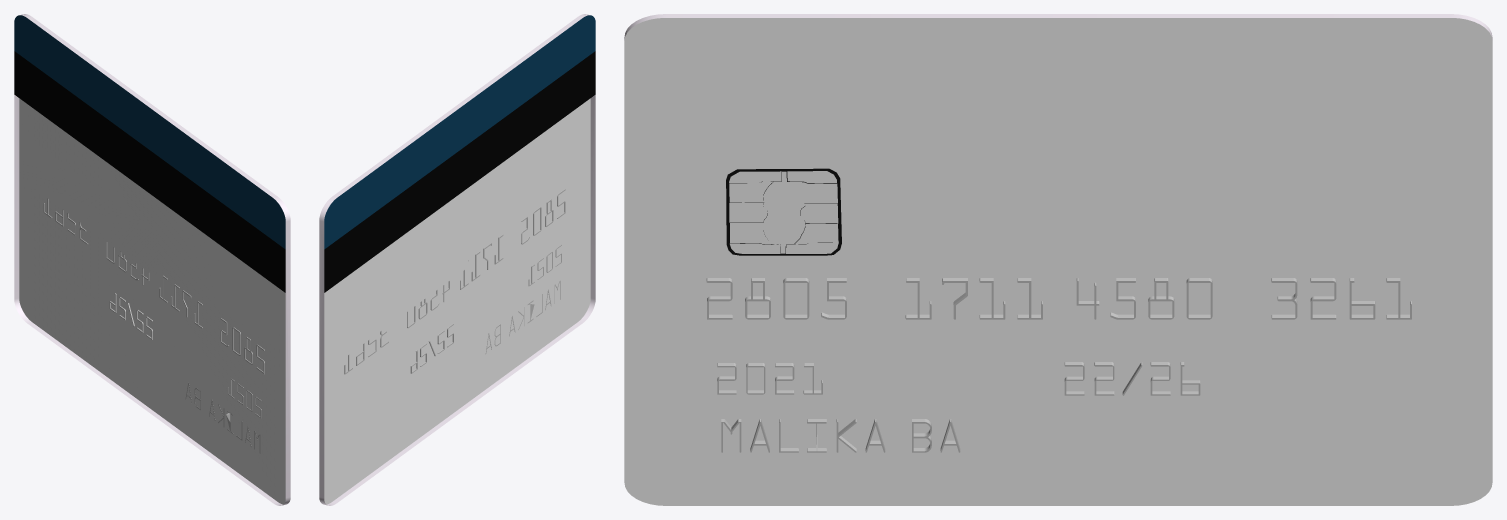
Rendered from card.glb.
The picture shows the model from 3 angles, left to right: view 1: azimuth 30°, elevation 25°; view 2: azimuth 150°, elevation 25°; view 3: azimuth 270°, elevation 25°; orthographic projection. The views are drawn at different scales.
Visible parts, largest first — view 1: card_4, Object_14, numbers/txt_3; view 2: card_4, Object_14, numbers/txt_3; view 3: card_4, numbers/txt_3, id_2.
Part boxes in pixels (<box>): card_4: <box>14,14,290,505</box>; Object_14: <box>21,133,158,278</box>; numbers/txt_3: <box>43,198,264,453</box>; card_4: <box>319,14,595,505</box>; Object_14: <box>331,222,467,366</box>; numbers/txt_3: <box>344,189,565,374</box>; card_4: <box>624,14,1492,505</box>; numbers/txt_3: <box>706,278,1411,452</box>; id_2: <box>726,168,841,255</box>.
Bounding box in the file's own units: 0.2084 × 6.79 × 10.94.
